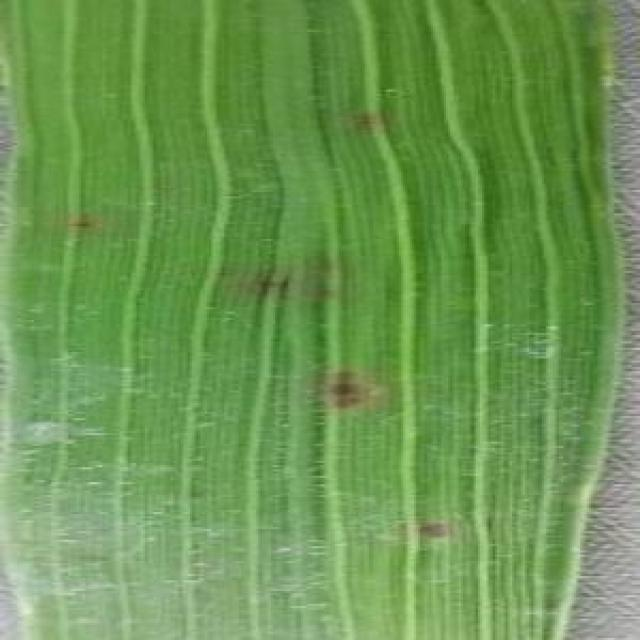brownspots: (301, 360, 414, 430), (399, 514, 461, 544)
